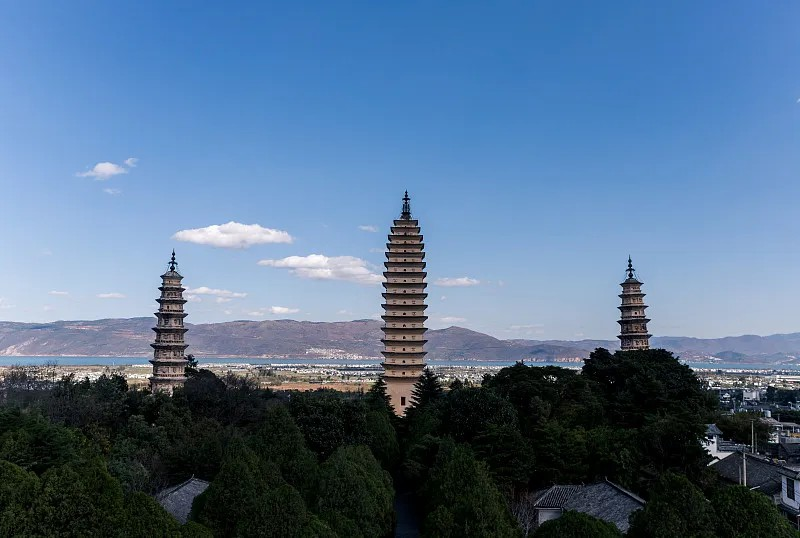ThreePagoda: (380, 189, 428, 416)
